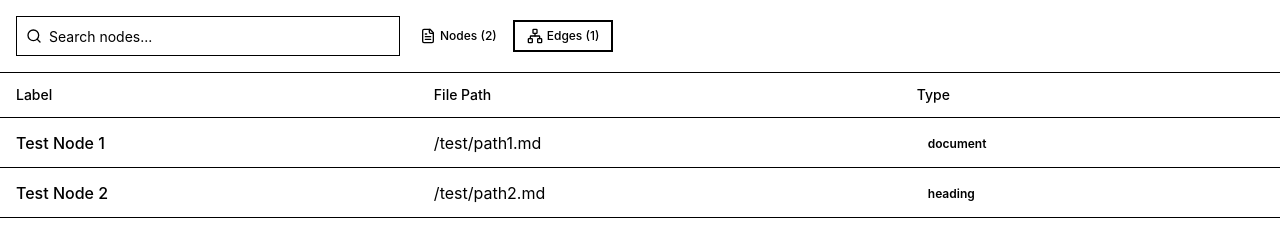
KnowledgeGraphTable › switches to edges table when edges button is clicked
Expected: the text "Test Node 1" is shown, x1=0 y1=118 x2=418 y2=168
// Click the edges button
What coordinates should you click on to do the following:
click the button "Edges (1)"
I would click on:
 (563, 36)
Its box is x1=513 y1=20 x2=613 y2=52.
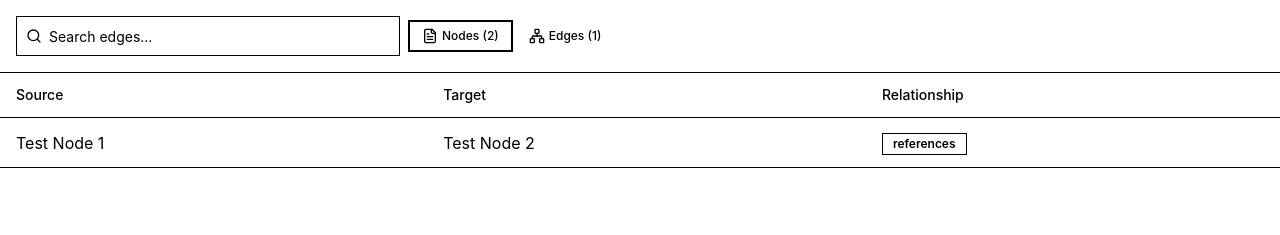
Expected: the column heading "Source" is shown, x1=0 y1=73 x2=427 y2=118
Expected: the column heading "Target" is shown, x1=427 y1=73 x2=866 y2=118
Expected: the column heading "Relationship" is shown, x1=866 y1=73 x2=1279 y2=118
